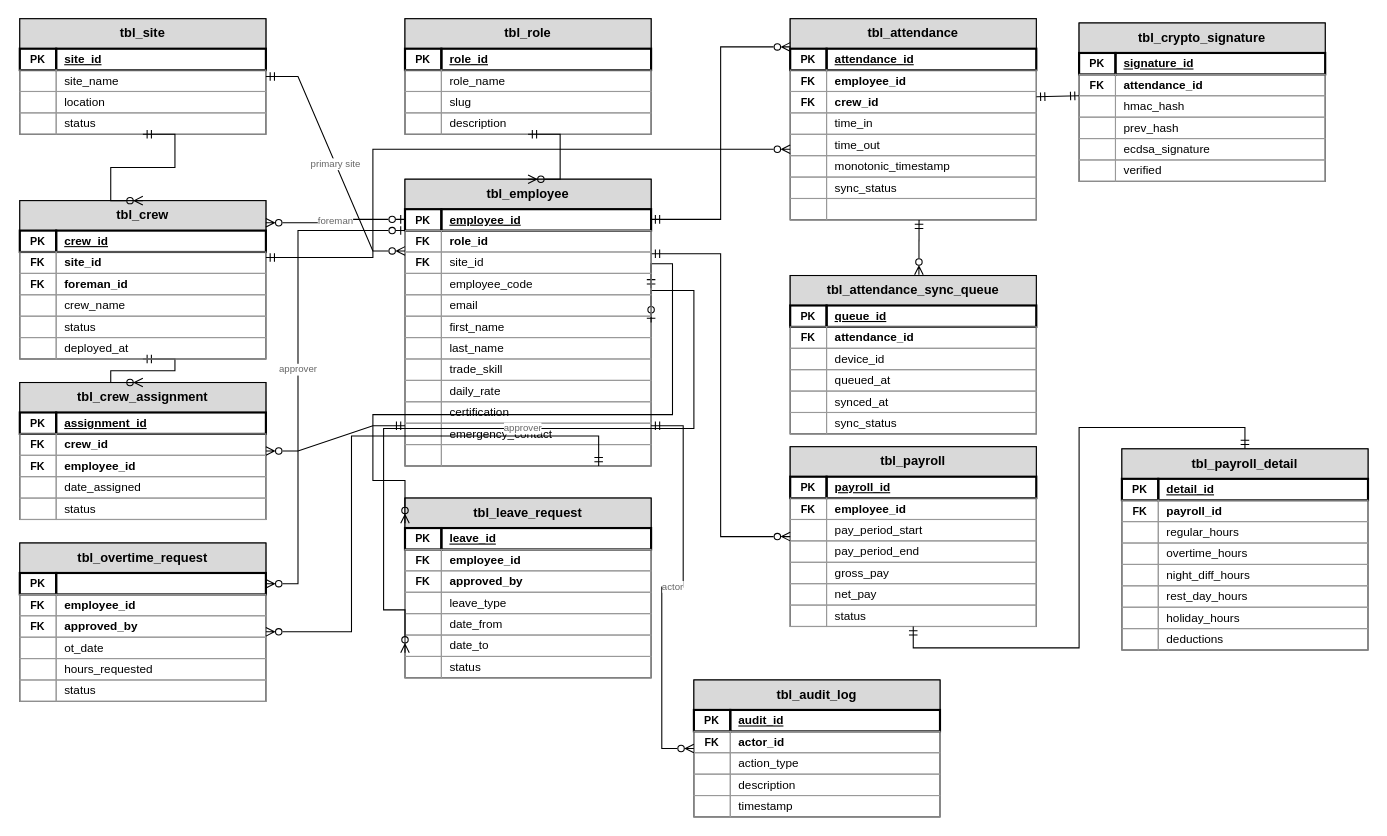
Image size: 1387x836. Some labels were removed from this diagram. Here are the shapes that lost their labels. From the top down, the centre of each, then its label:
At pixel 931 208: "override_flag".
At pixel 545 455: "employment_status".
At pixel 160 583: "ot_id".
